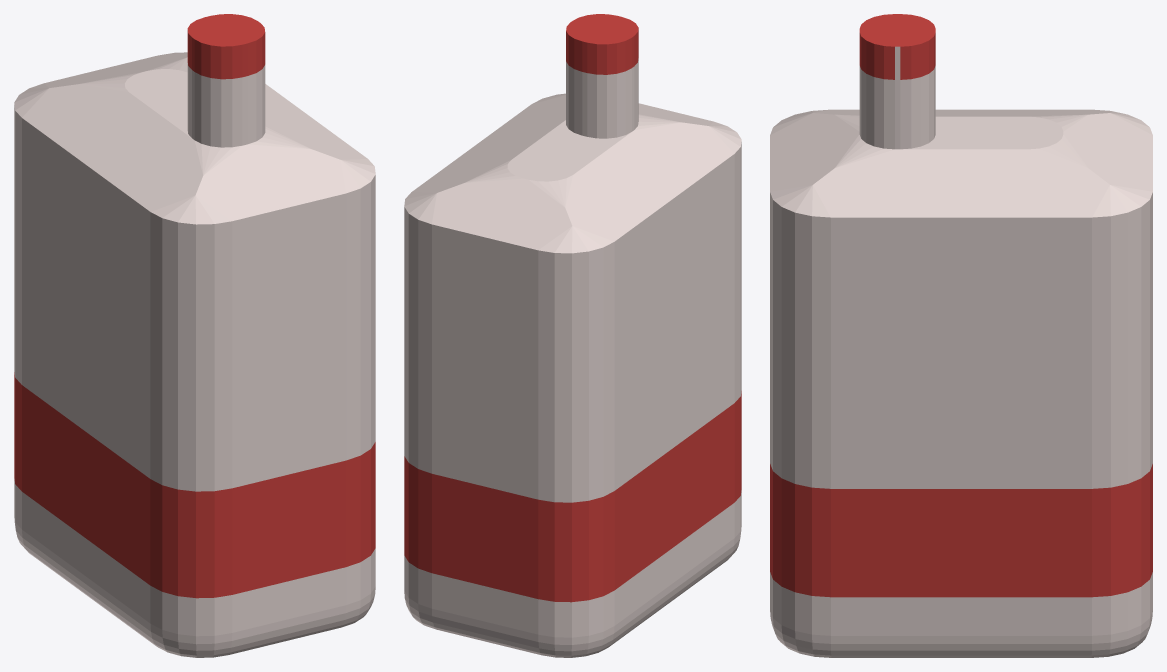
The model's file is skimmed_4pt.glb.
3 views of the same model, side by side, from view 1: azimuth 30°, elevation 25°; view 2: azimuth 150°, elevation 25°; view 3: azimuth 270°, elevation 25° (orthographic). The views are drawn at different scales.
Visible parts, largest first — view 1: Cube, Cube.001, Cube.002; view 2: Cube, Cube.001, Cube.002; view 3: Cube, Cube.001, Cube.002.
Boxes of the visible parts, x1,y1,x2,y2 form: Cube: (14,52,375,657); Cube.001: (14,372,375,598); Cube.002: (187,14,265,79); Cube: (404,58,741,657); Cube.001: (404,391,741,602); Cube.002: (566,14,638,74); Cube: (770,66,1152,657); Cube.001: (770,464,1152,597); Cube.002: (859,14,935,79).
Bounding box in the file's own units: 0.2 × 0.5 × 0.3.
